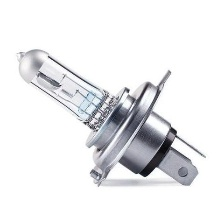light_bulb: (12, 45, 212, 190)
